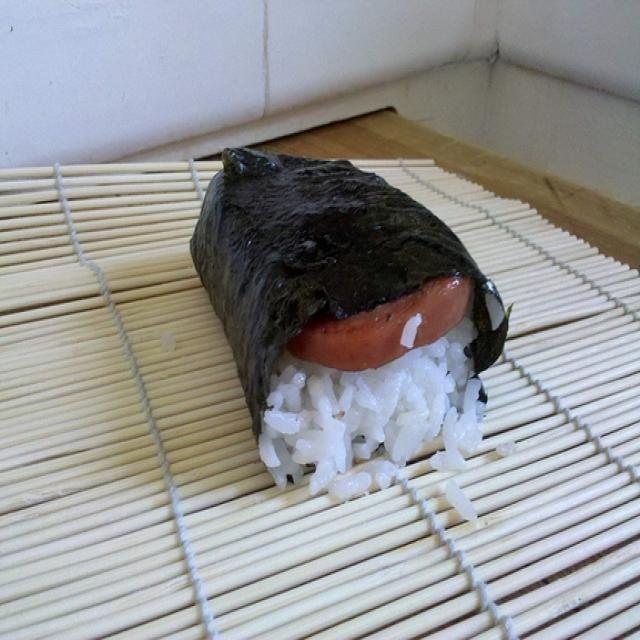寿司卷物: (157, 93, 554, 546)
